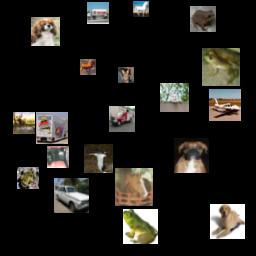airplane: (209, 89, 241, 121)
automobile: (54, 178, 89, 213)
bird: (84, 144, 113, 173)
cat: (160, 83, 189, 112), (47, 146, 69, 168), (118, 67, 134, 83)
deer: (13, 112, 35, 134)
dog: (210, 204, 245, 239), (174, 138, 209, 173), (31, 17, 60, 46)
frog: (202, 48, 240, 86), (123, 209, 158, 244), (190, 6, 216, 32), (17, 167, 39, 189)
truck: (36, 112, 68, 144), (109, 106, 135, 132), (87, 2, 109, 24)
